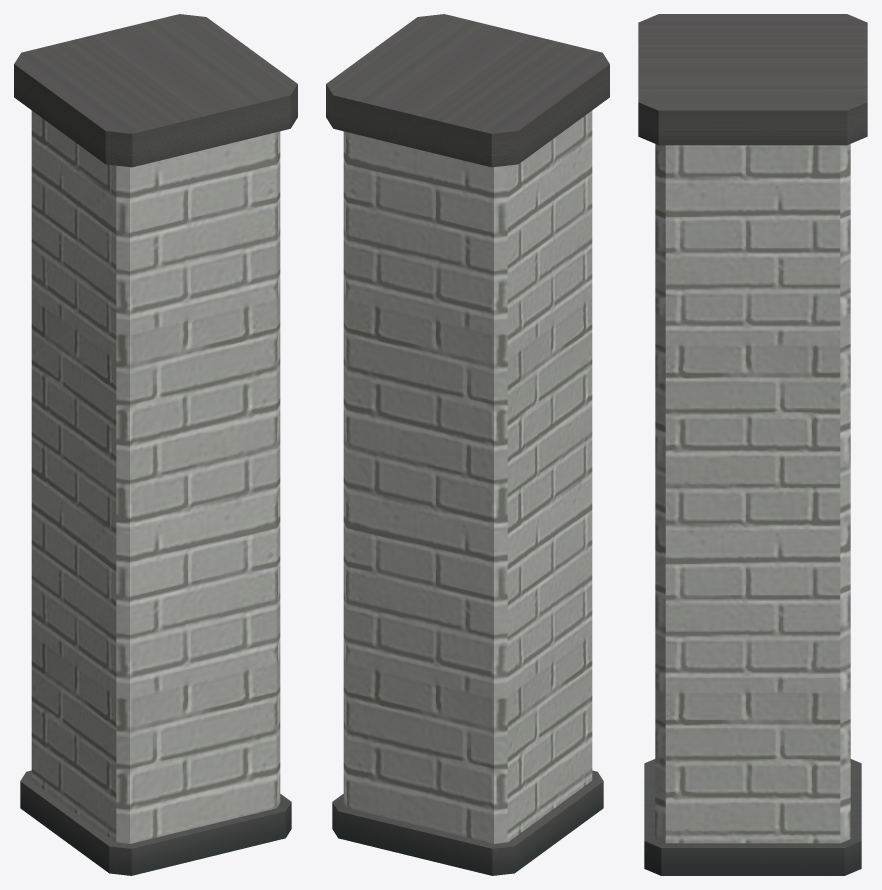
File: Pillar.fbx
3 views of the same model, side by side, from view 1: azimuth 30°, elevation 25°; view 2: azimuth 150°, elevation 25°; view 3: azimuth 270°, elevation 25° (orthographic). The views are drawn at different scales.
Parts seen in each view (by area): view 1: Pillar; view 2: Pillar; view 3: Pillar.
Boxes of the visible parts, x1=… form: Pillar: x1=14, y1=14, x2=297, y2=875; Pillar: x1=326, y1=14, x2=609, y2=875; Pillar: x1=638, y1=14, x2=867, y2=875.
Bounding box in the file's own units: 7.03 × 26 × 7.03.
Materials: 2 (2 with a texture image).
